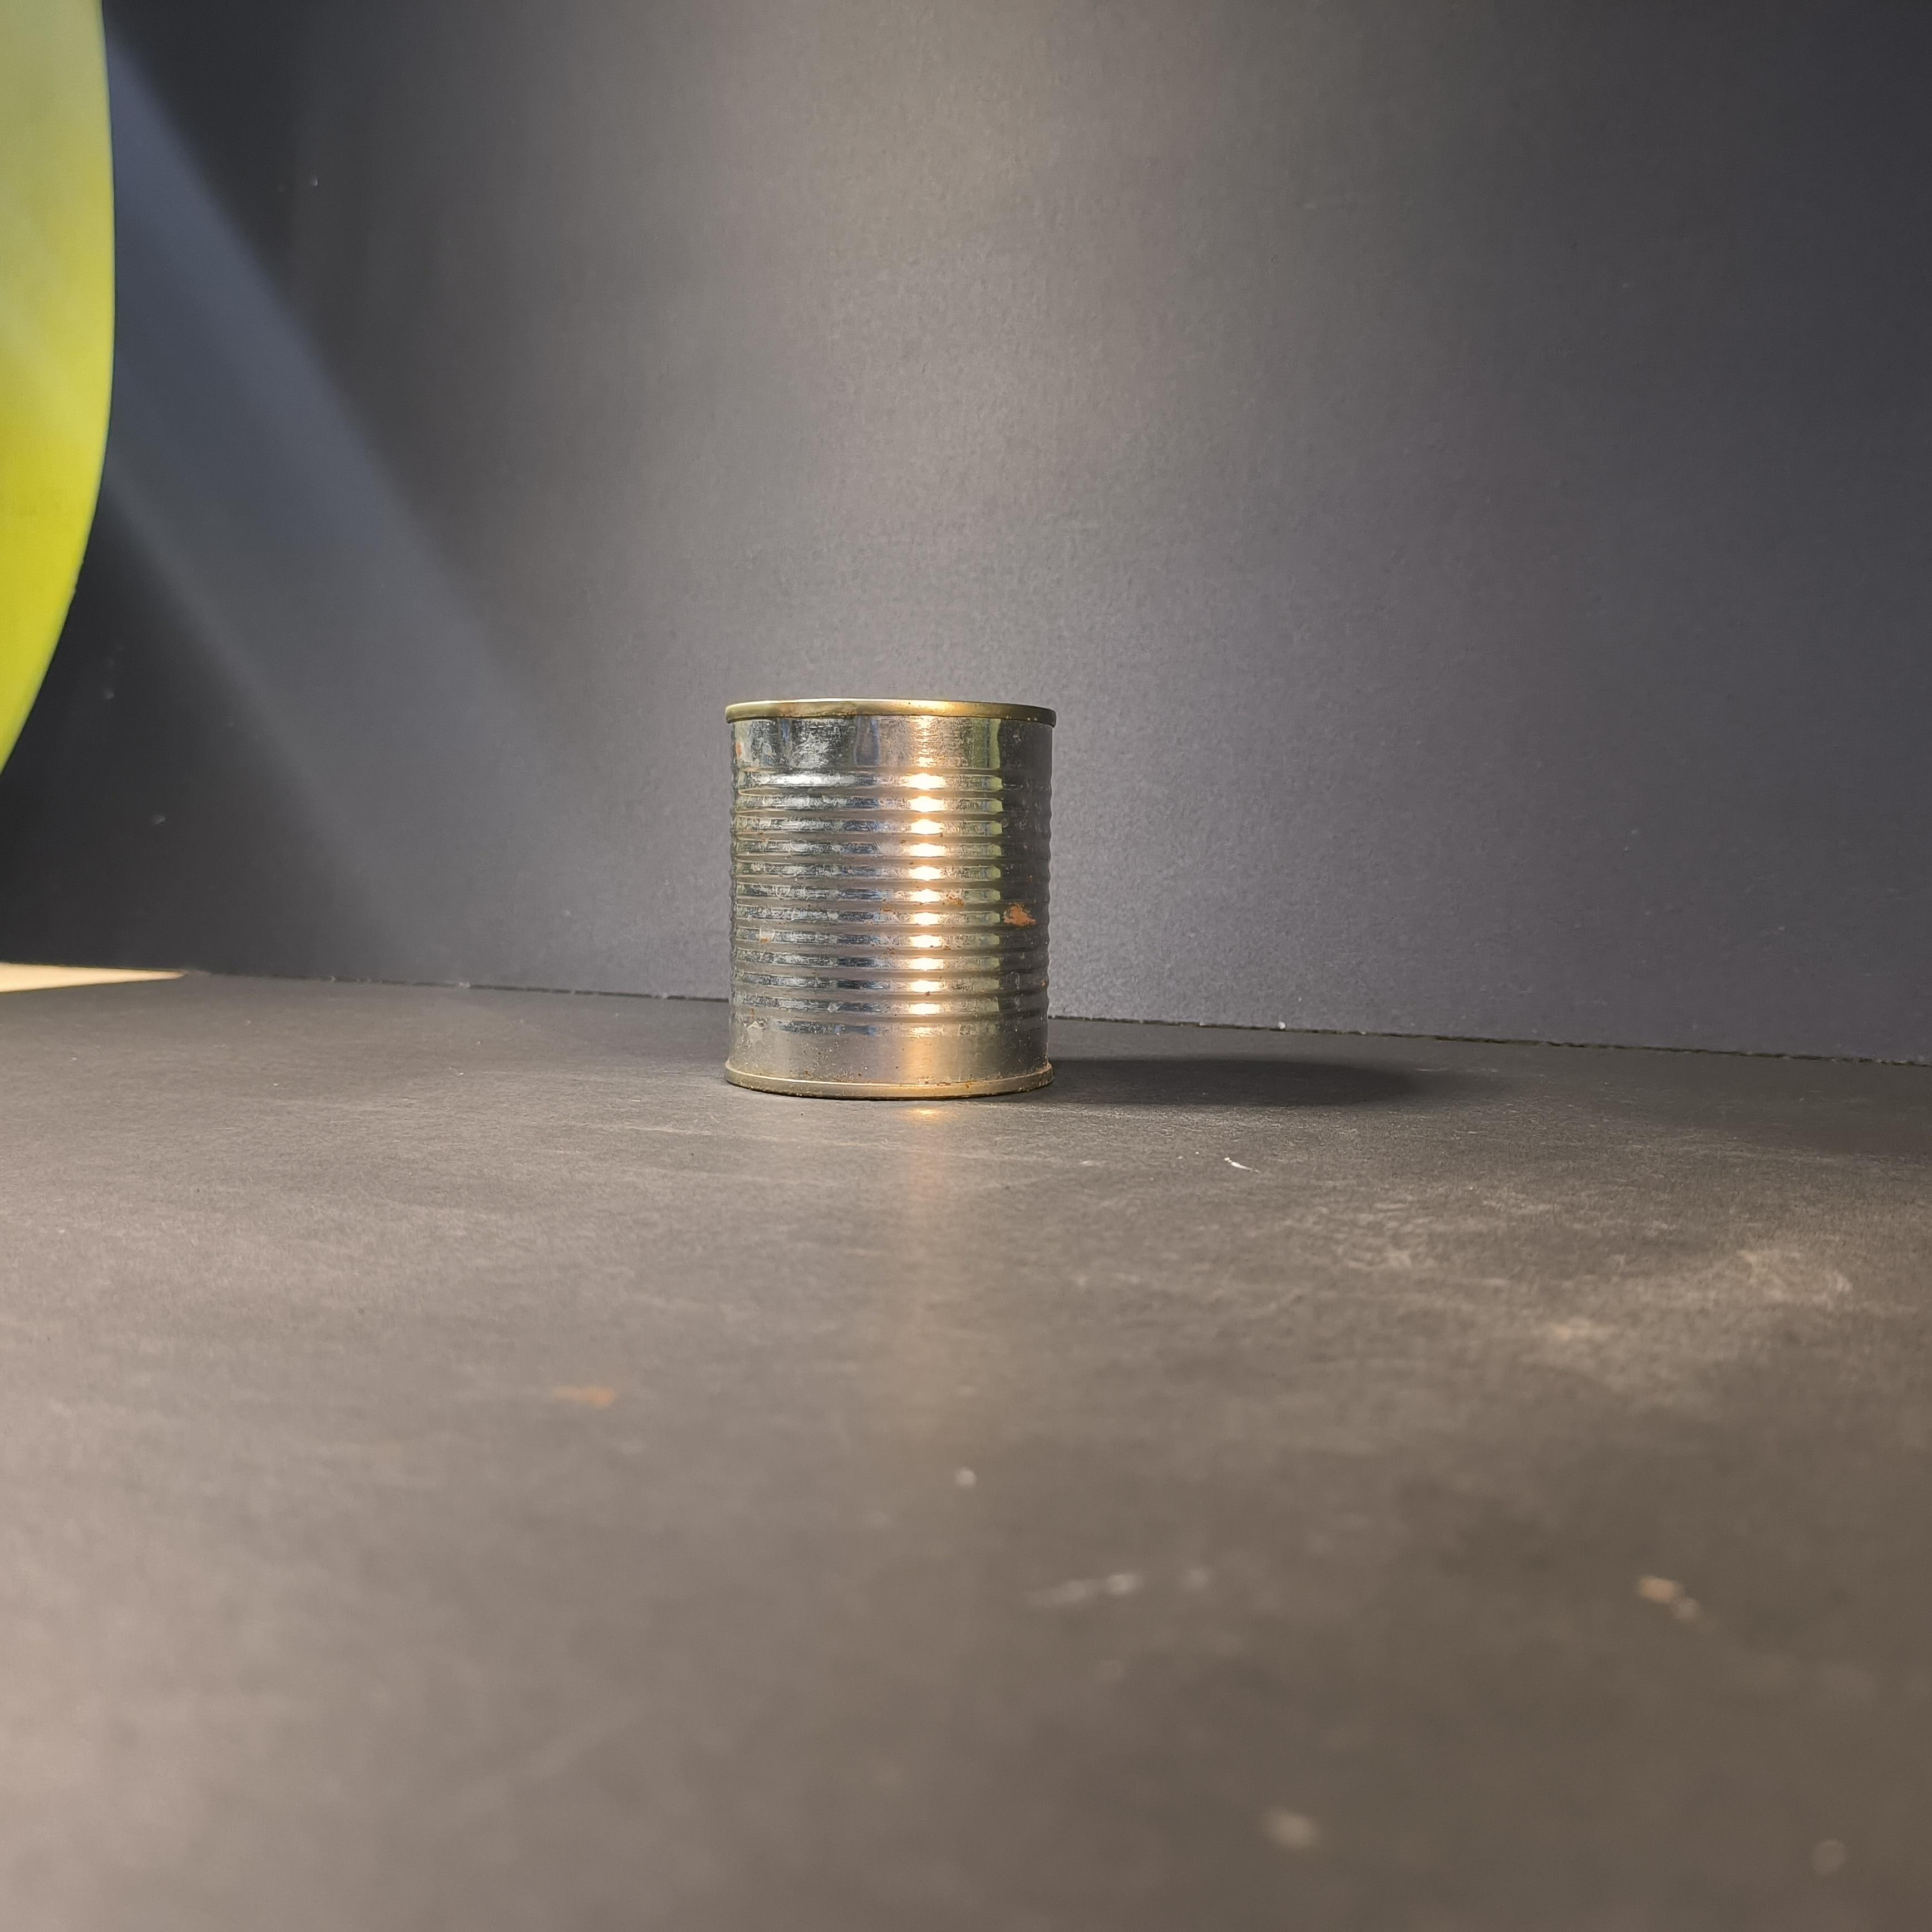Minor Defect: (718, 692, 1060, 1104)
